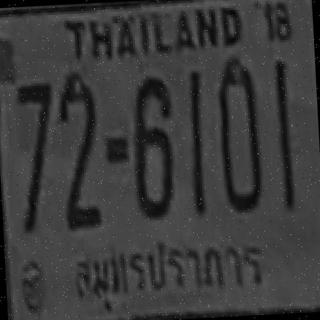N01: (273, 60, 293, 172), (186, 72, 204, 182), (186, 70, 204, 172)
N06: (129, 74, 176, 216)
N07: (16, 79, 54, 165)
P57: (63, 228, 272, 310)
